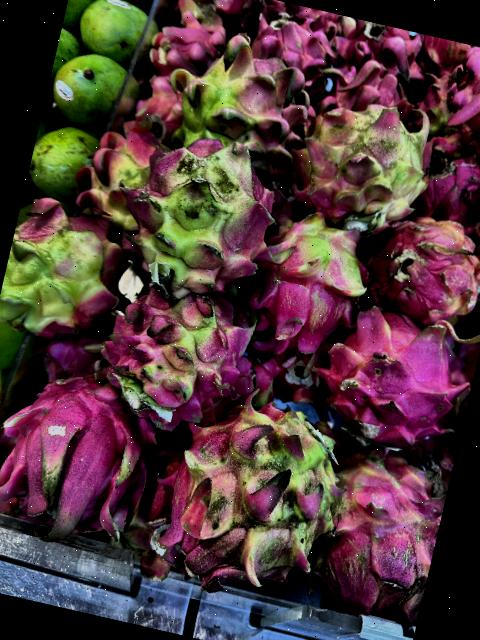buah-naga-belum-matang: (154, 384, 361, 614), (92, 117, 288, 307), (297, 430, 454, 630), (80, 269, 266, 435), (282, 70, 445, 238), (158, 22, 320, 174), (0, 186, 141, 353), (246, 201, 377, 353), (359, 203, 480, 326), (70, 125, 172, 236), (123, 70, 196, 148), (161, 0, 261, 39)
buah-naga-matang: (0, 360, 173, 552), (308, 300, 480, 456), (235, 10, 342, 104), (143, 0, 235, 87), (404, 119, 480, 224), (325, 14, 432, 84), (430, 42, 480, 176)
